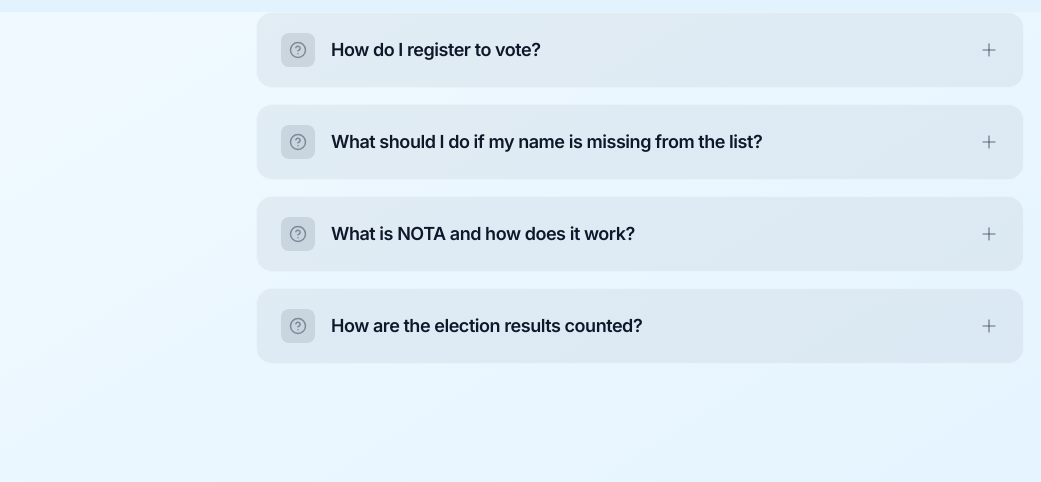
FAQ Component › Accordion Interaction › opens the first FAQ when clicked
Step 1. Click the button "How do I register to vote?" → (298, 50), box [257,13,1023,87]
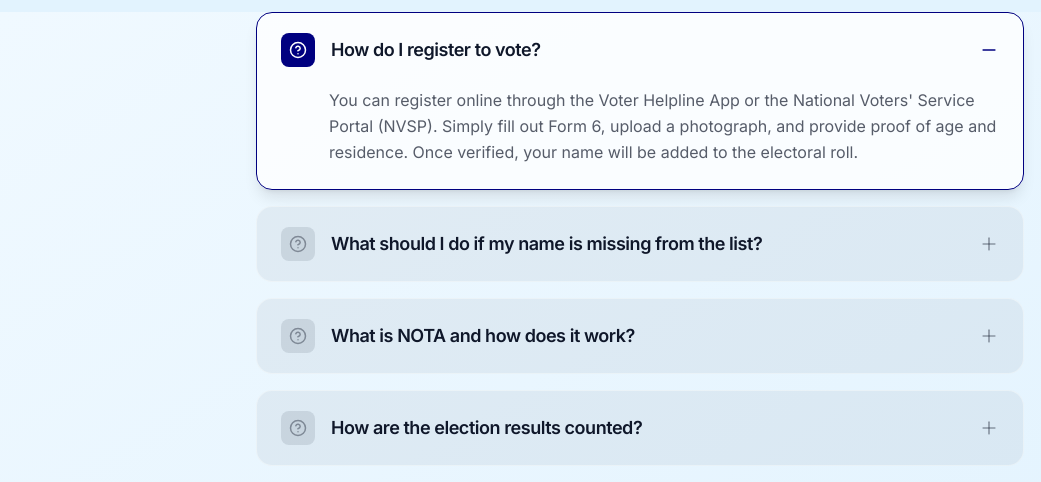
Expected: the text "You can register online through the Voter Helpline App" is shown, [329,90,996,162]
